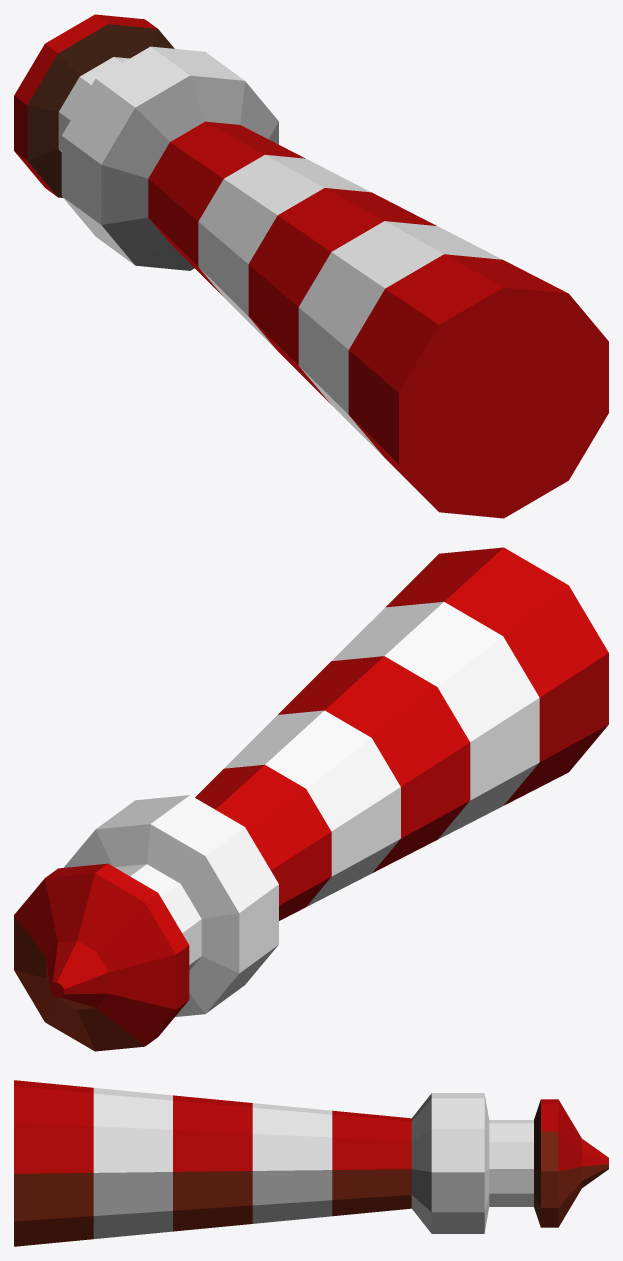
The model's file is lighthouse.fbx.
The picture shows the model from 3 angles, top to bottom: view 1: azimuth 30°, elevation 25°; view 2: azimuth 150°, elevation 25°; view 3: azimuth 270°, elevation 25°; orthographic projection. The views are drawn at different scales.
Visible parts, largest first — view 1: lighthouse; view 2: lighthouse; view 3: lighthouse.
Part boxes in pixels (bbox=[...]): lighthouse: bbox=[14, 14, 608, 518]; lighthouse: bbox=[14, 547, 608, 1051]; lighthouse: bbox=[14, 1080, 608, 1246].
Bounding box in the file's own units: 57.04 × 59.97 × 210.
